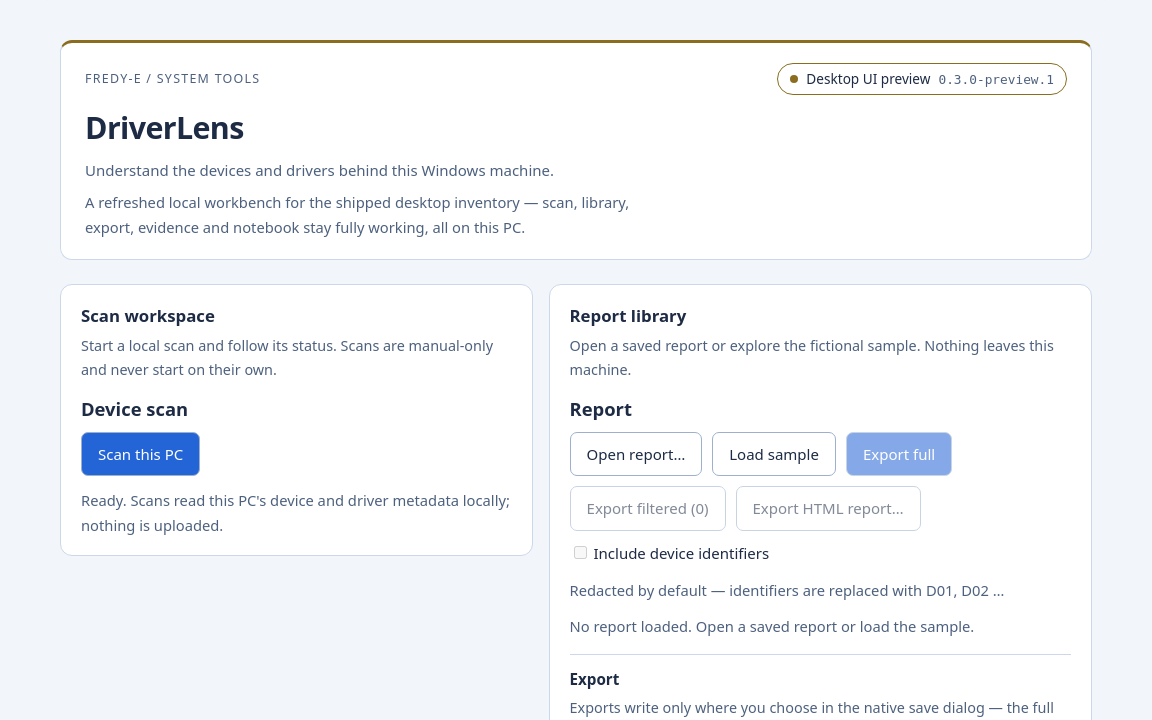
Test: App — Export HTML report flows › toggles the checkbox with the keyboard (Space) and activates the action with Enter
Click the button "Load sample" at [774, 454], box [712, 432, 836, 476]
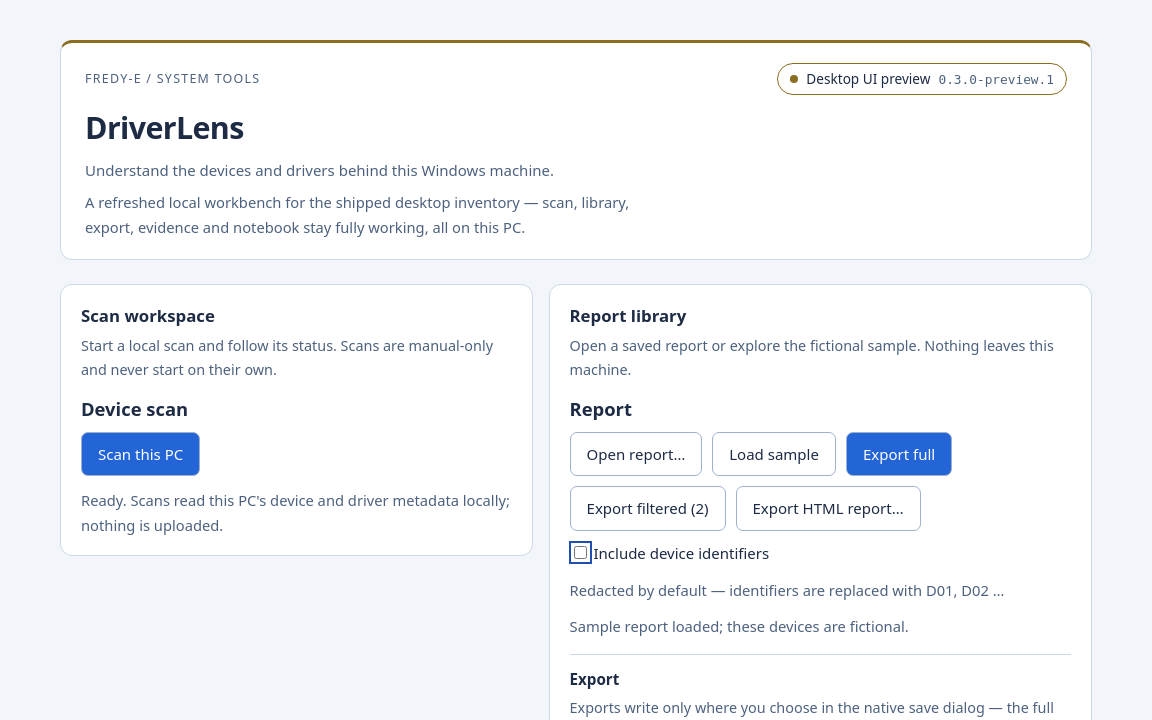
Result: the text "Sample report loaded; these devices are fictional." is shown at [570, 616, 909, 636]
Type keys " "
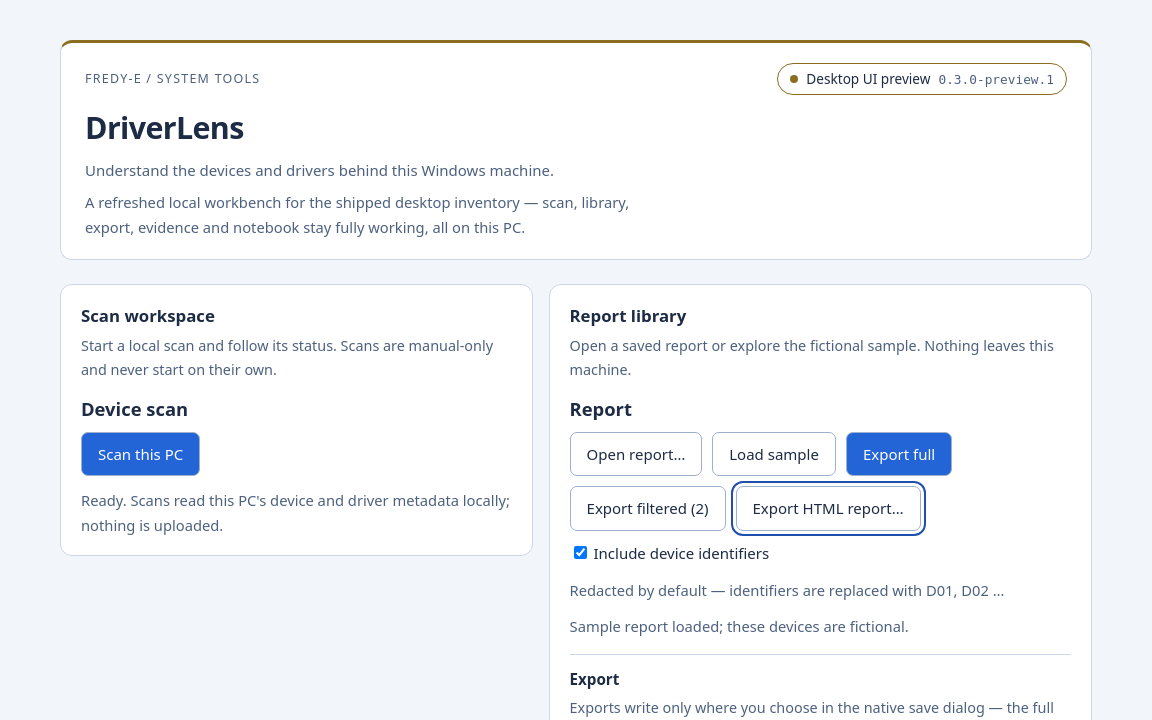
Result: the checkbox labelled "Include device identifiers" is checked at [574, 546, 586, 559]
Press Enter
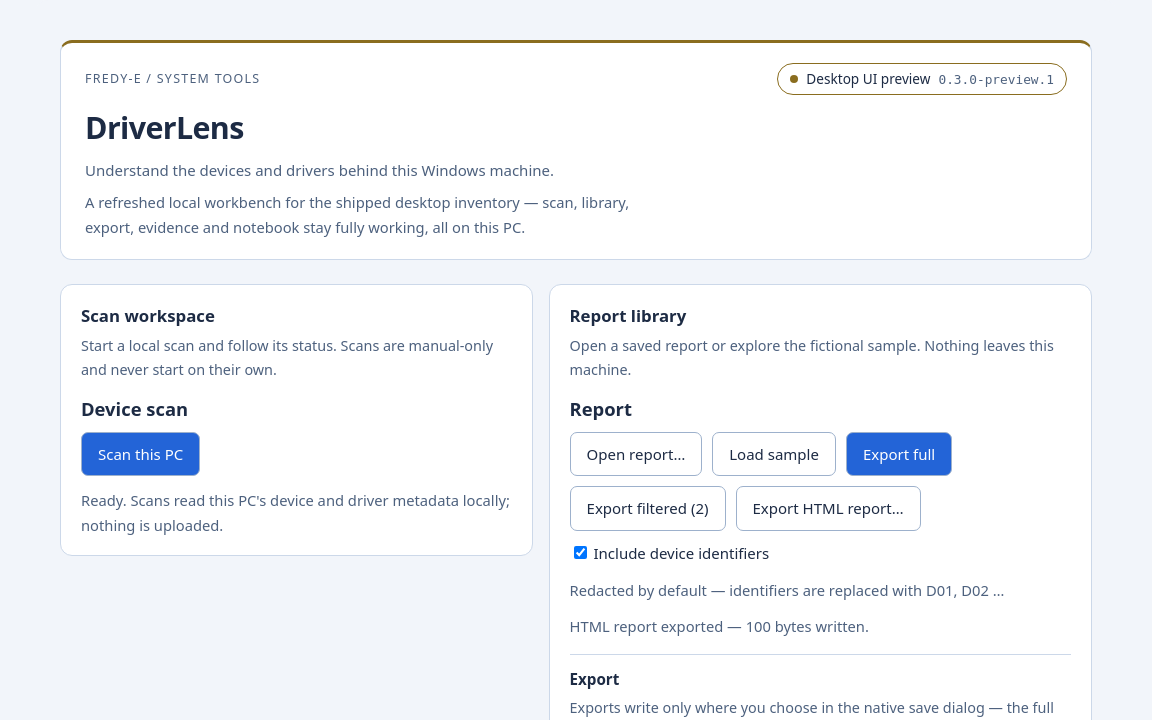
Result: the text "HTML report exported — 100 bytes written." is shown at [570, 616, 869, 636]
